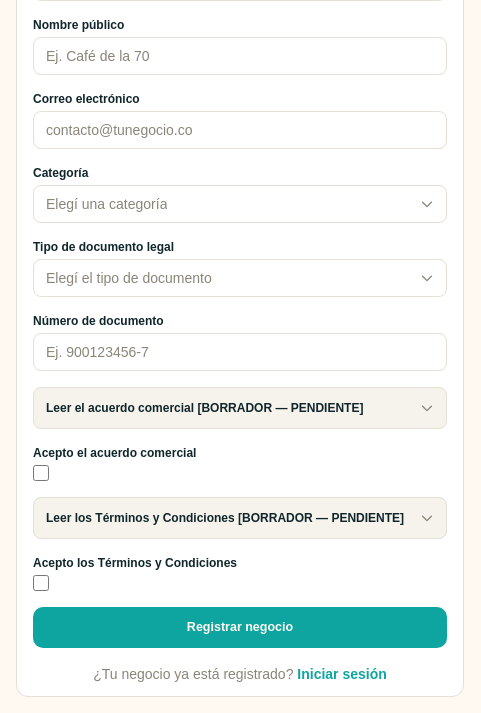
Test: RegisterForm › al enviar vacío, muestra el error de requerido en los 6 campos de texto más el de aceptación, y no navega
(page scrolled)
Step 1. Click the button "Registrar negocio" → (240, 627), box [33,607,447,648]
(page scrolled)
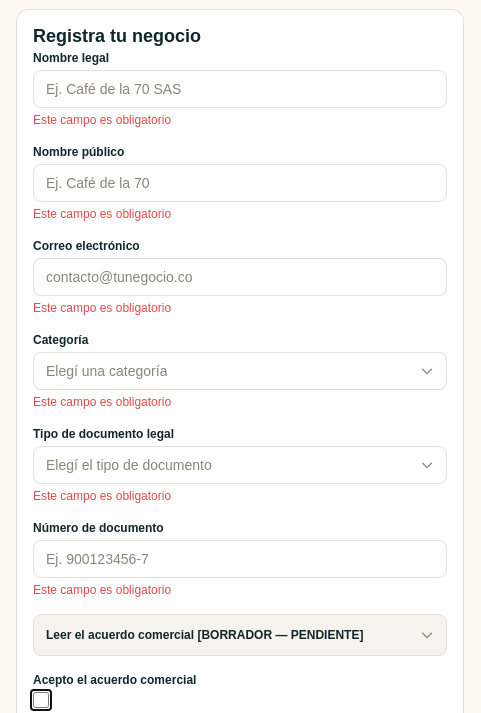
Check: the number of messages is 8
Check: the message "Este campo es obligatorio" below "Nombre legal" is shown, box [33,113,171,127]
Check: the message "Este campo es obligatorio" below "Nombre público" is shown, box [33,207,171,221]
